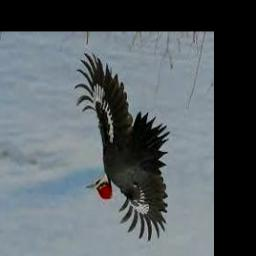Woodpecker: (74, 54, 170, 243)
